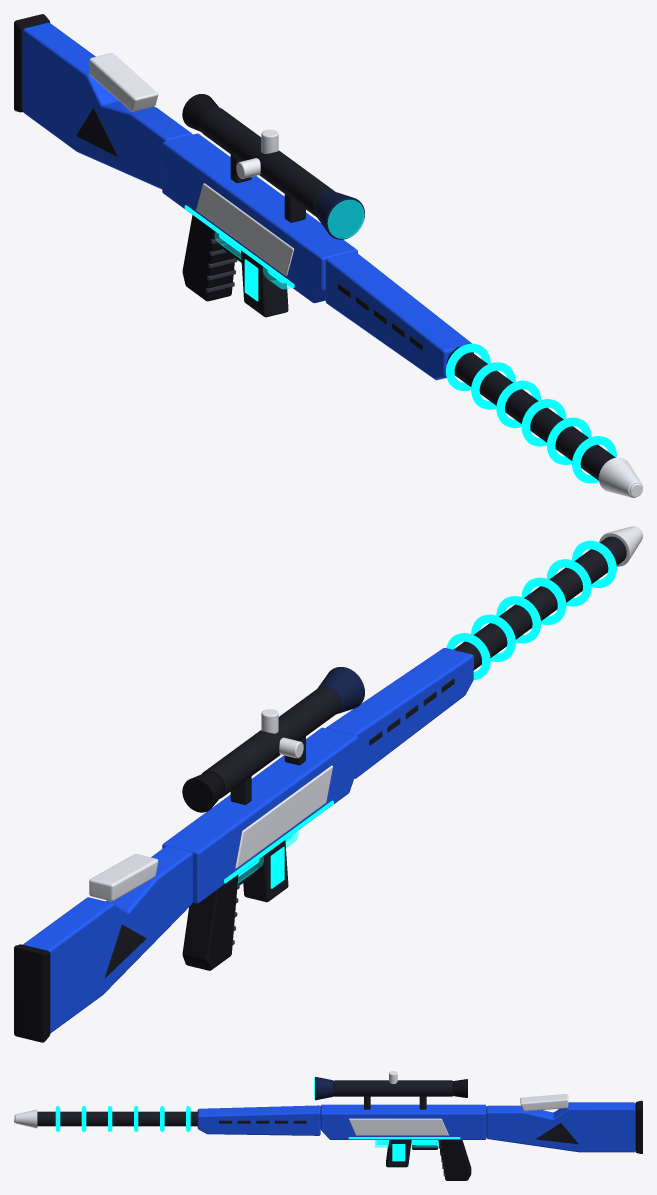
Rendered from OrbitalLauncher.fbx.
3 renders of one model, top to bottom at view 1: azimuth 30°, elevation 25°; view 2: azimuth 150°, elevation 25°; view 3: azimuth 270°, elevation 25°, orthographic. The views are drawn at different scales.
Parts seen in each view (by area): view 1: OrbitalLauncher_Pro_Plastic_Blue, OrbitalLauncher_Pro_Plastic_Dark, OrbitalLauncher_Pro_Plastic_White, OrbitalLauncher_Pro_Glow_cyan_12, OrbitalLauncher_Pro_Rubber_Grip, OrbitalLauncher_Pro_Plastic_Navy, OrbitalLauncher_Pro_Glass_cyan_0.6; view 2: OrbitalLauncher_Pro_Plastic_Blue, OrbitalLauncher_Pro_Plastic_Dark, OrbitalLauncher_Pro_Rubber_Grip, OrbitalLauncher_Pro_Plastic_White, OrbitalLauncher_Pro_Glow_cyan_12, OrbitalLauncher_Pro_Plastic_Navy; view 3: OrbitalLauncher_Pro_Plastic_Blue, OrbitalLauncher_Pro_Plastic_Dark, OrbitalLauncher_Pro_Plastic_White, OrbitalLauncher_Pro_Rubber_Grip, OrbitalLauncher_Pro_Glow_cyan_12, OrbitalLauncher_Pro_Plastic_Navy, OrbitalLauncher_Pro_Glass_cyan_0.35.
Part boxes in pixels (<box>): OrbitalLauncher_Pro_Plastic_Blue: <box>22,22,473,380</box>; OrbitalLauncher_Pro_Plastic_Dark: <box>76,107,615,480</box>; OrbitalLauncher_Pro_Plastic_White: <box>89,53,642,497</box>; OrbitalLauncher_Pro_Glow_cyan_12: <box>184,205,616,483</box>; OrbitalLauncher_Pro_Rubber_Grip: <box>14,14,234,301</box>; OrbitalLauncher_Pro_Plastic_Navy: <box>314,191,364,239</box>; OrbitalLauncher_Pro_Glass_cyan_0.6: <box>327,199,364,238</box>; OrbitalLauncher_Pro_Plastic_Blue: <box>23,648,473,1033</box>; OrbitalLauncher_Pro_Plastic_Dark: <box>104,536,626,978</box>; OrbitalLauncher_Pro_Rubber_Grip: <box>14,772,238,1042</box>; OrbitalLauncher_Pro_Plastic_White: <box>89,526,642,901</box>; OrbitalLauncher_Pro_Glow_cyan_12: <box>224,540,616,888</box>; OrbitalLauncher_Pro_Plastic_Navy: <box>317,667,364,714</box>; OrbitalLauncher_Pro_Plastic_Blue: <box>197,1102,635,1152</box>; OrbitalLauncher_Pro_Plastic_Dark: <box>37,1080,578,1167</box>; OrbitalLauncher_Pro_Plastic_White: <box>15,1071,568,1135</box>; OrbitalLauncher_Pro_Rubber_Grip: <box>438,1079,642,1180</box>; OrbitalLauncher_Pro_Glow_cyan_12: <box>55,1106,460,1161</box>; OrbitalLauncher_Pro_Plastic_Navy: <box>315,1077,333,1100</box>; OrbitalLauncher_Pro_Glass_cyan_0.35: <box>374,1140,438,1147</box>.
Size of the model in its own units: 0.0647 by 0.2434 by 1.32.
